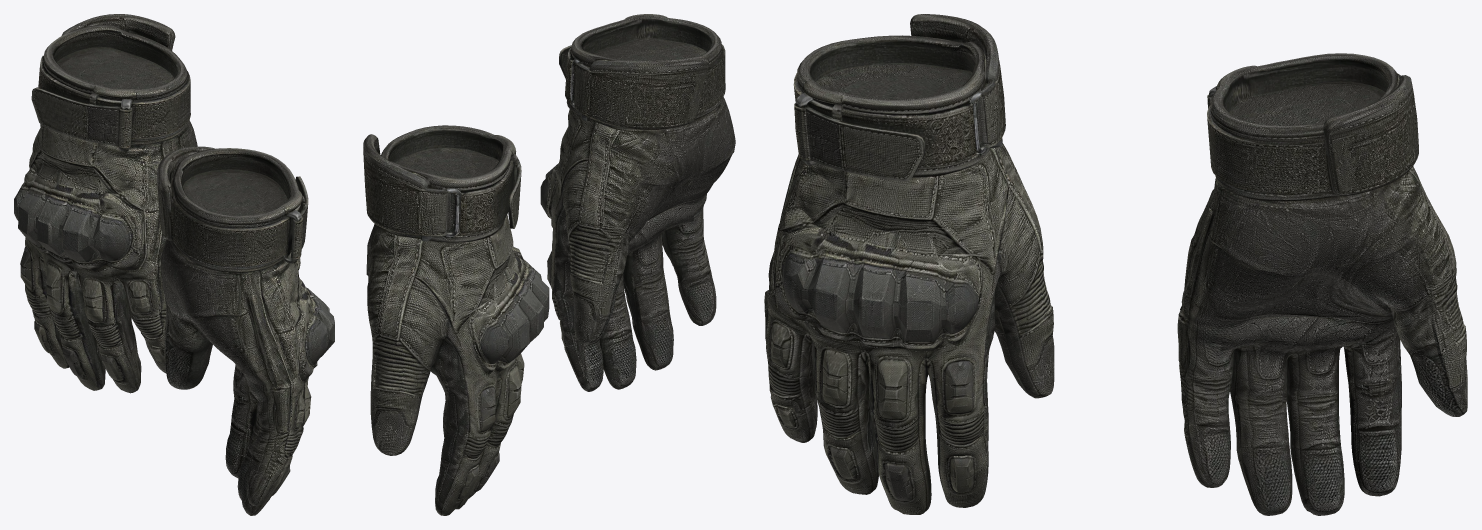
The model's file is gauntlet.glb.
3 views of the same model, side by side, from view 1: azimuth 30°, elevation 25°; view 2: azimuth 150°, elevation 25°; view 3: azimuth 270°, elevation 25° (orthographic). The views are drawn at different scales.
Parts seen in each view (by area): view 1: Object_4; view 2: Object_4; view 3: Object_4.
Part boxes in pixels (x1,y1,x2,y2): Object_4: (14,14,334,515); Object_4: (363,14,735,515); Object_4: (764,14,1467,515).
Size of the model in its own units: 0.5182 by 0.9995 by 1.4.
Materials: 1 (1 with a texture image).
